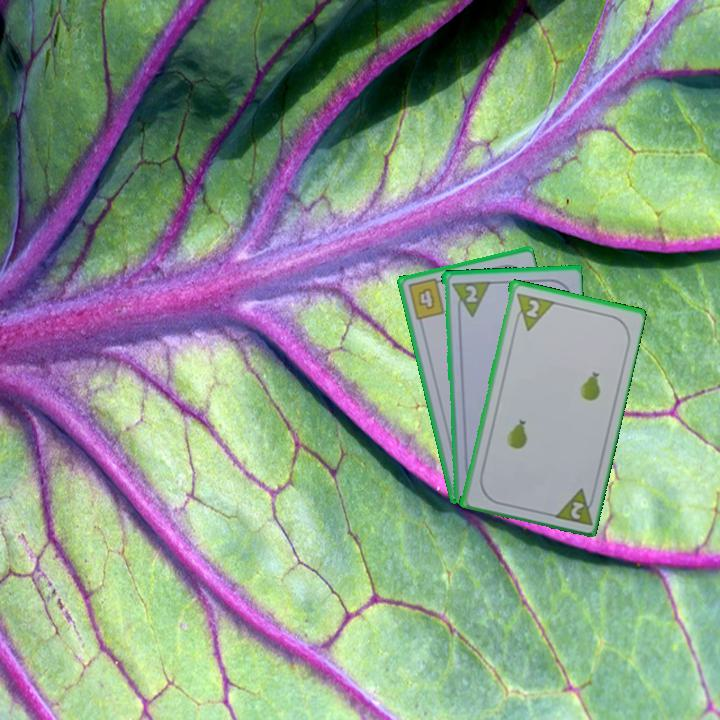2p: (549, 484, 598, 528), (448, 277, 491, 319), (522, 296, 542, 320)
4b: (404, 275, 447, 323)
